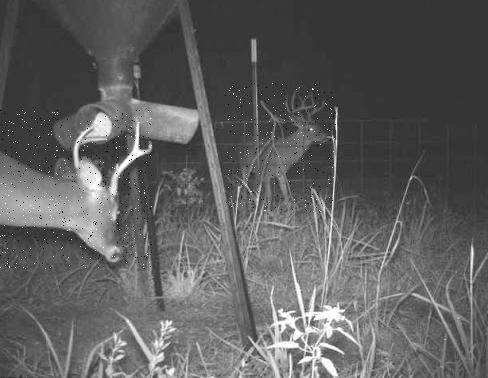Deer: (0, 110, 152, 269), (225, 83, 336, 212)
